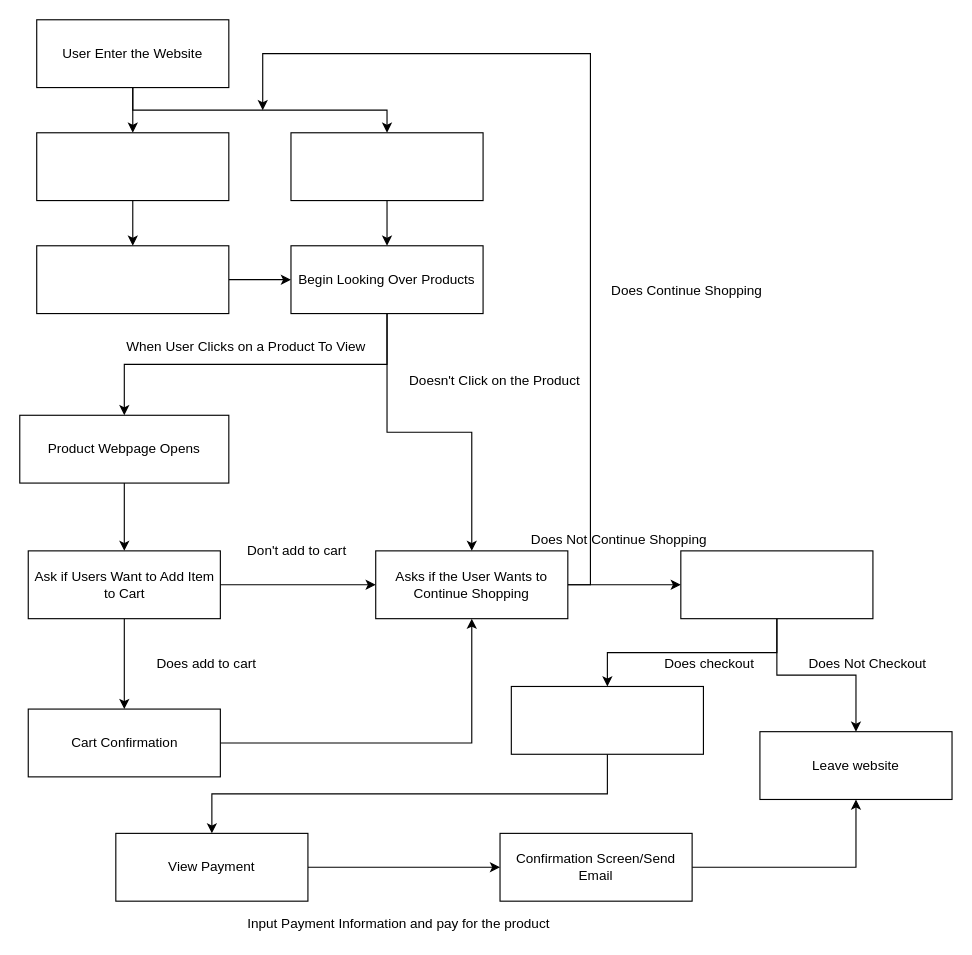
This 972x955 diagram has some shape labels left out. The box of each missing label's shape, as (x1, y1, x2, y2) in pixels:
Checkout: (680, 550, 873, 619)
Exploring a Product: (290, 132, 483, 201)
Prompt User for Input: (36, 245, 229, 314)
Serach for a Product: (36, 132, 229, 201)
View Cart: (510, 685, 703, 754)
